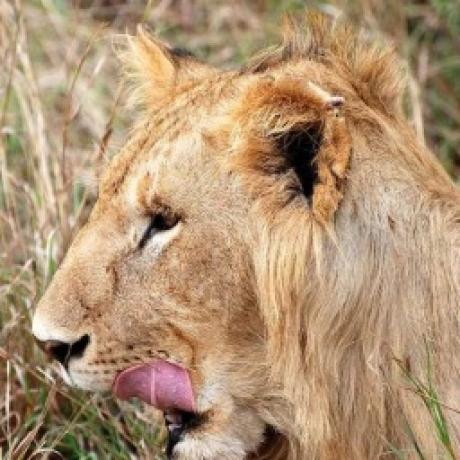Lion: (30, 18, 460, 460)
